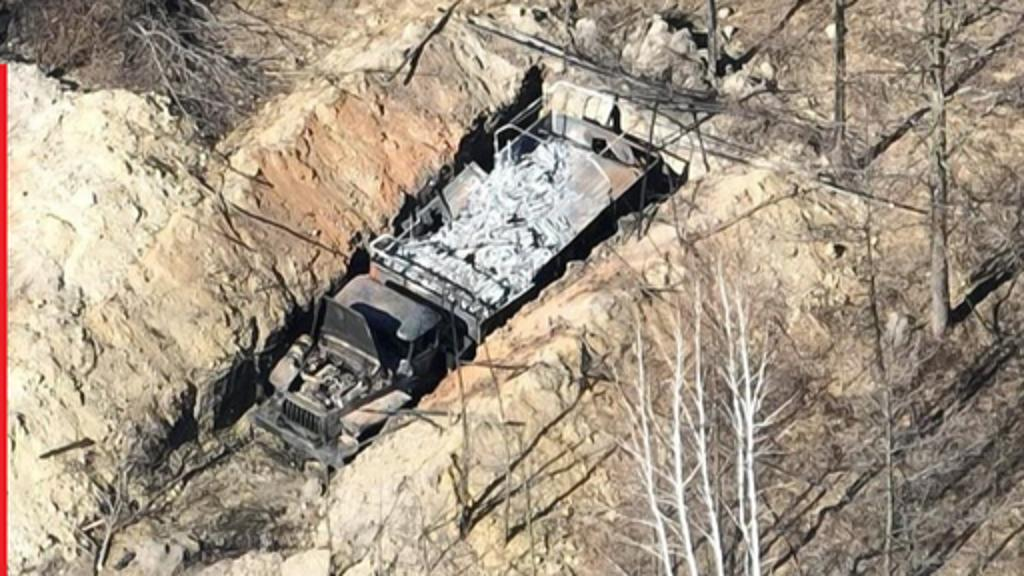TRUCK: (244, 74, 676, 470)
